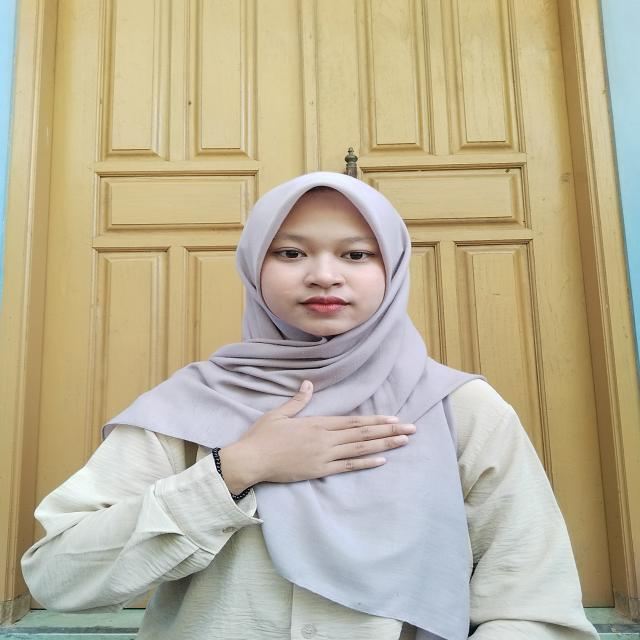tolong: (201, 378, 425, 494)
